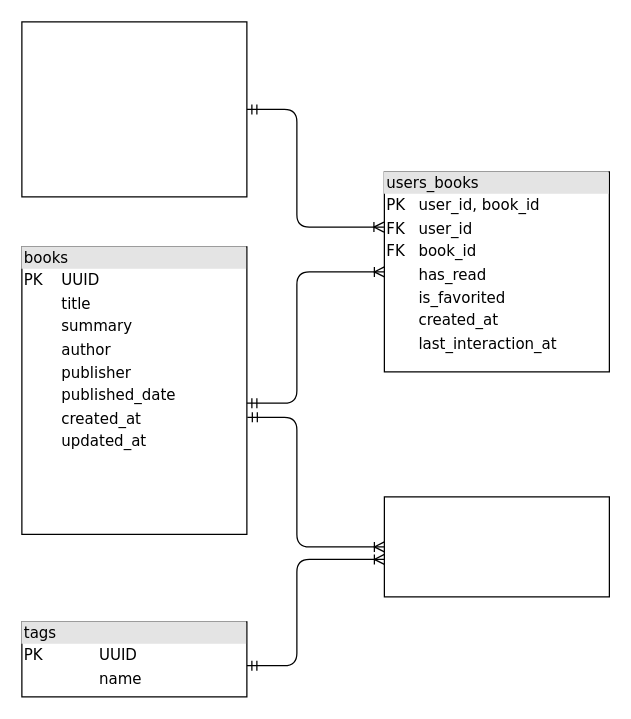
Some shapes in this 631 by 719 pixel diagram are drawn without their labels. The shapes that lost their labels are listed below. From the top down, each one's centre as x and y in pixels, then its label:
point (134, 109): users PK UUID cognito_sub email name created_at updated_at
point (496, 546): book_tags PK book_id, tag_id FK book_id FK book_id
